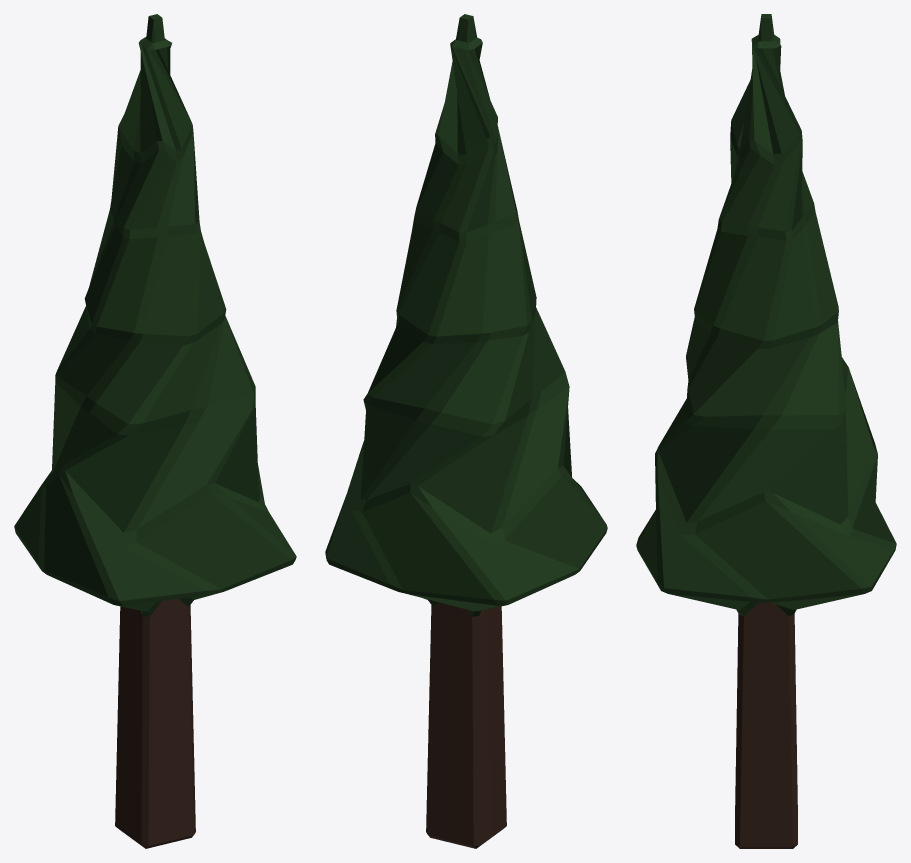
The model's file is Tree1.fbx.
3 views of the same model, side by side, from view 1: azimuth 30°, elevation 25°; view 2: azimuth 150°, elevation 25°; view 3: azimuth 270°, elevation 25° (orthographic).
Visible parts, largest first — view 1: Cube; view 2: Cube; view 3: Cube.
Boxes of the visible parts, box(x1,y1,x2,y2) form: Cube: box(14, 14, 296, 848); Cube: box(325, 14, 607, 848); Cube: box(636, 14, 896, 848).
Size of the model in its own units: 395 by 1373 by 395.
